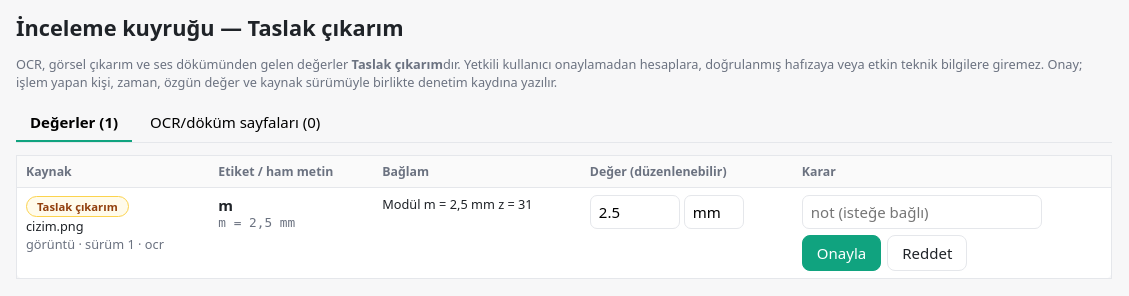
Taslak çıkarım onay akışı › taslak değeri etiketler, düzenleyerek onaylar ve kuyruğu yeniler
Expected: the text "Taslak çıkarım" in the row of "Modül m = 2,5 mm z = 31" is shown, [37,198,118,214]
Expected: the text "m = 2,5 mm" is shown, [218,214,295,230]
Replace the text in the 1st field named "Değer" with "2,75" at (635, 212), box [590,194,680,228]
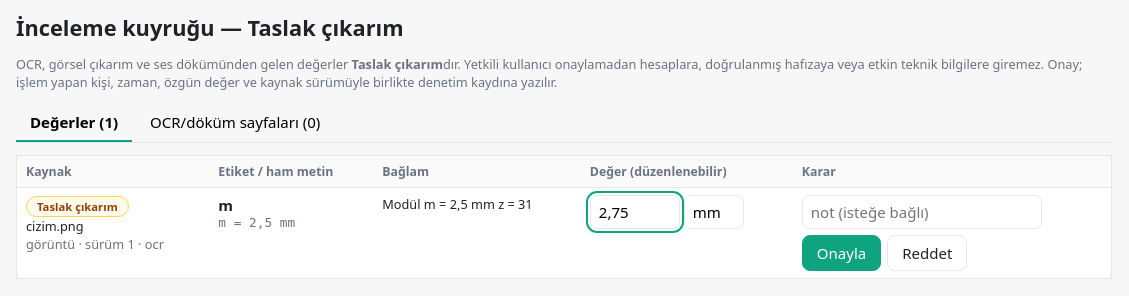
Click the button "Onayla" at (841, 252), box [802,234,881,270]
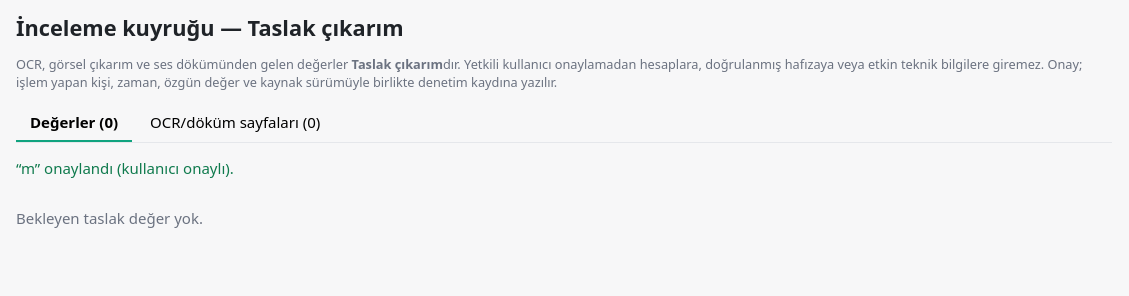
Expected: the message shows "onaylandı", [16,158,234,178]
Expected: the text "Bekleyen taslak değer yok." is shown, [16,208,203,228]
